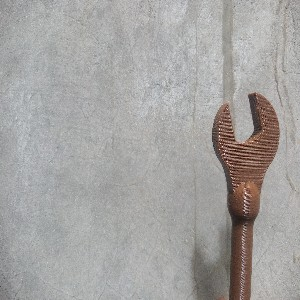spanner: (211, 92, 280, 300)
